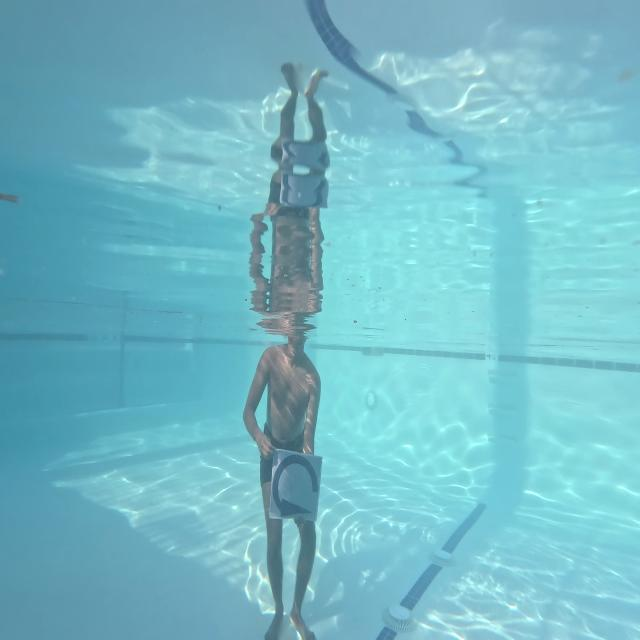blue_side: (255, 422, 327, 532)
